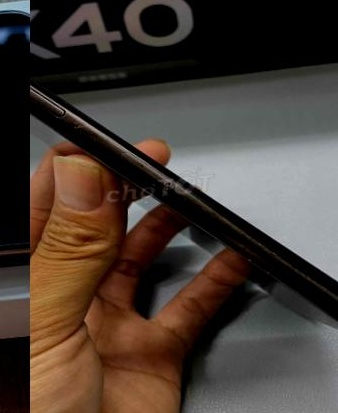scratch: (56, 112, 111, 145), (273, 255, 327, 285), (238, 248, 262, 271)
